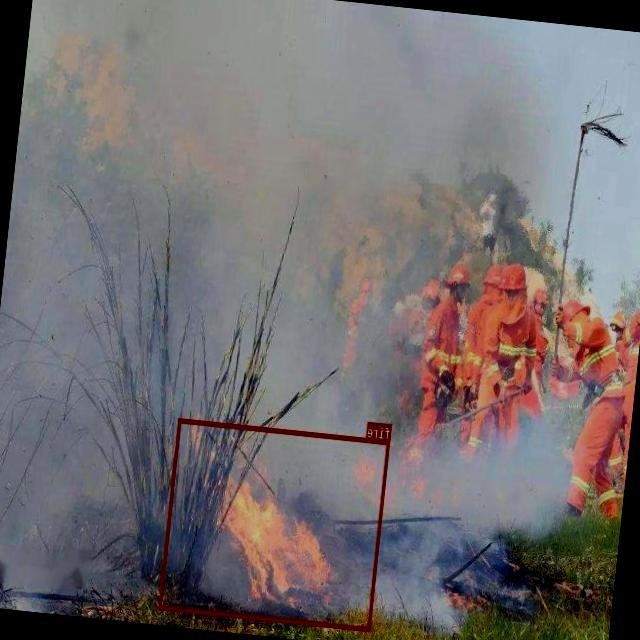fire: (159, 417, 390, 630)
